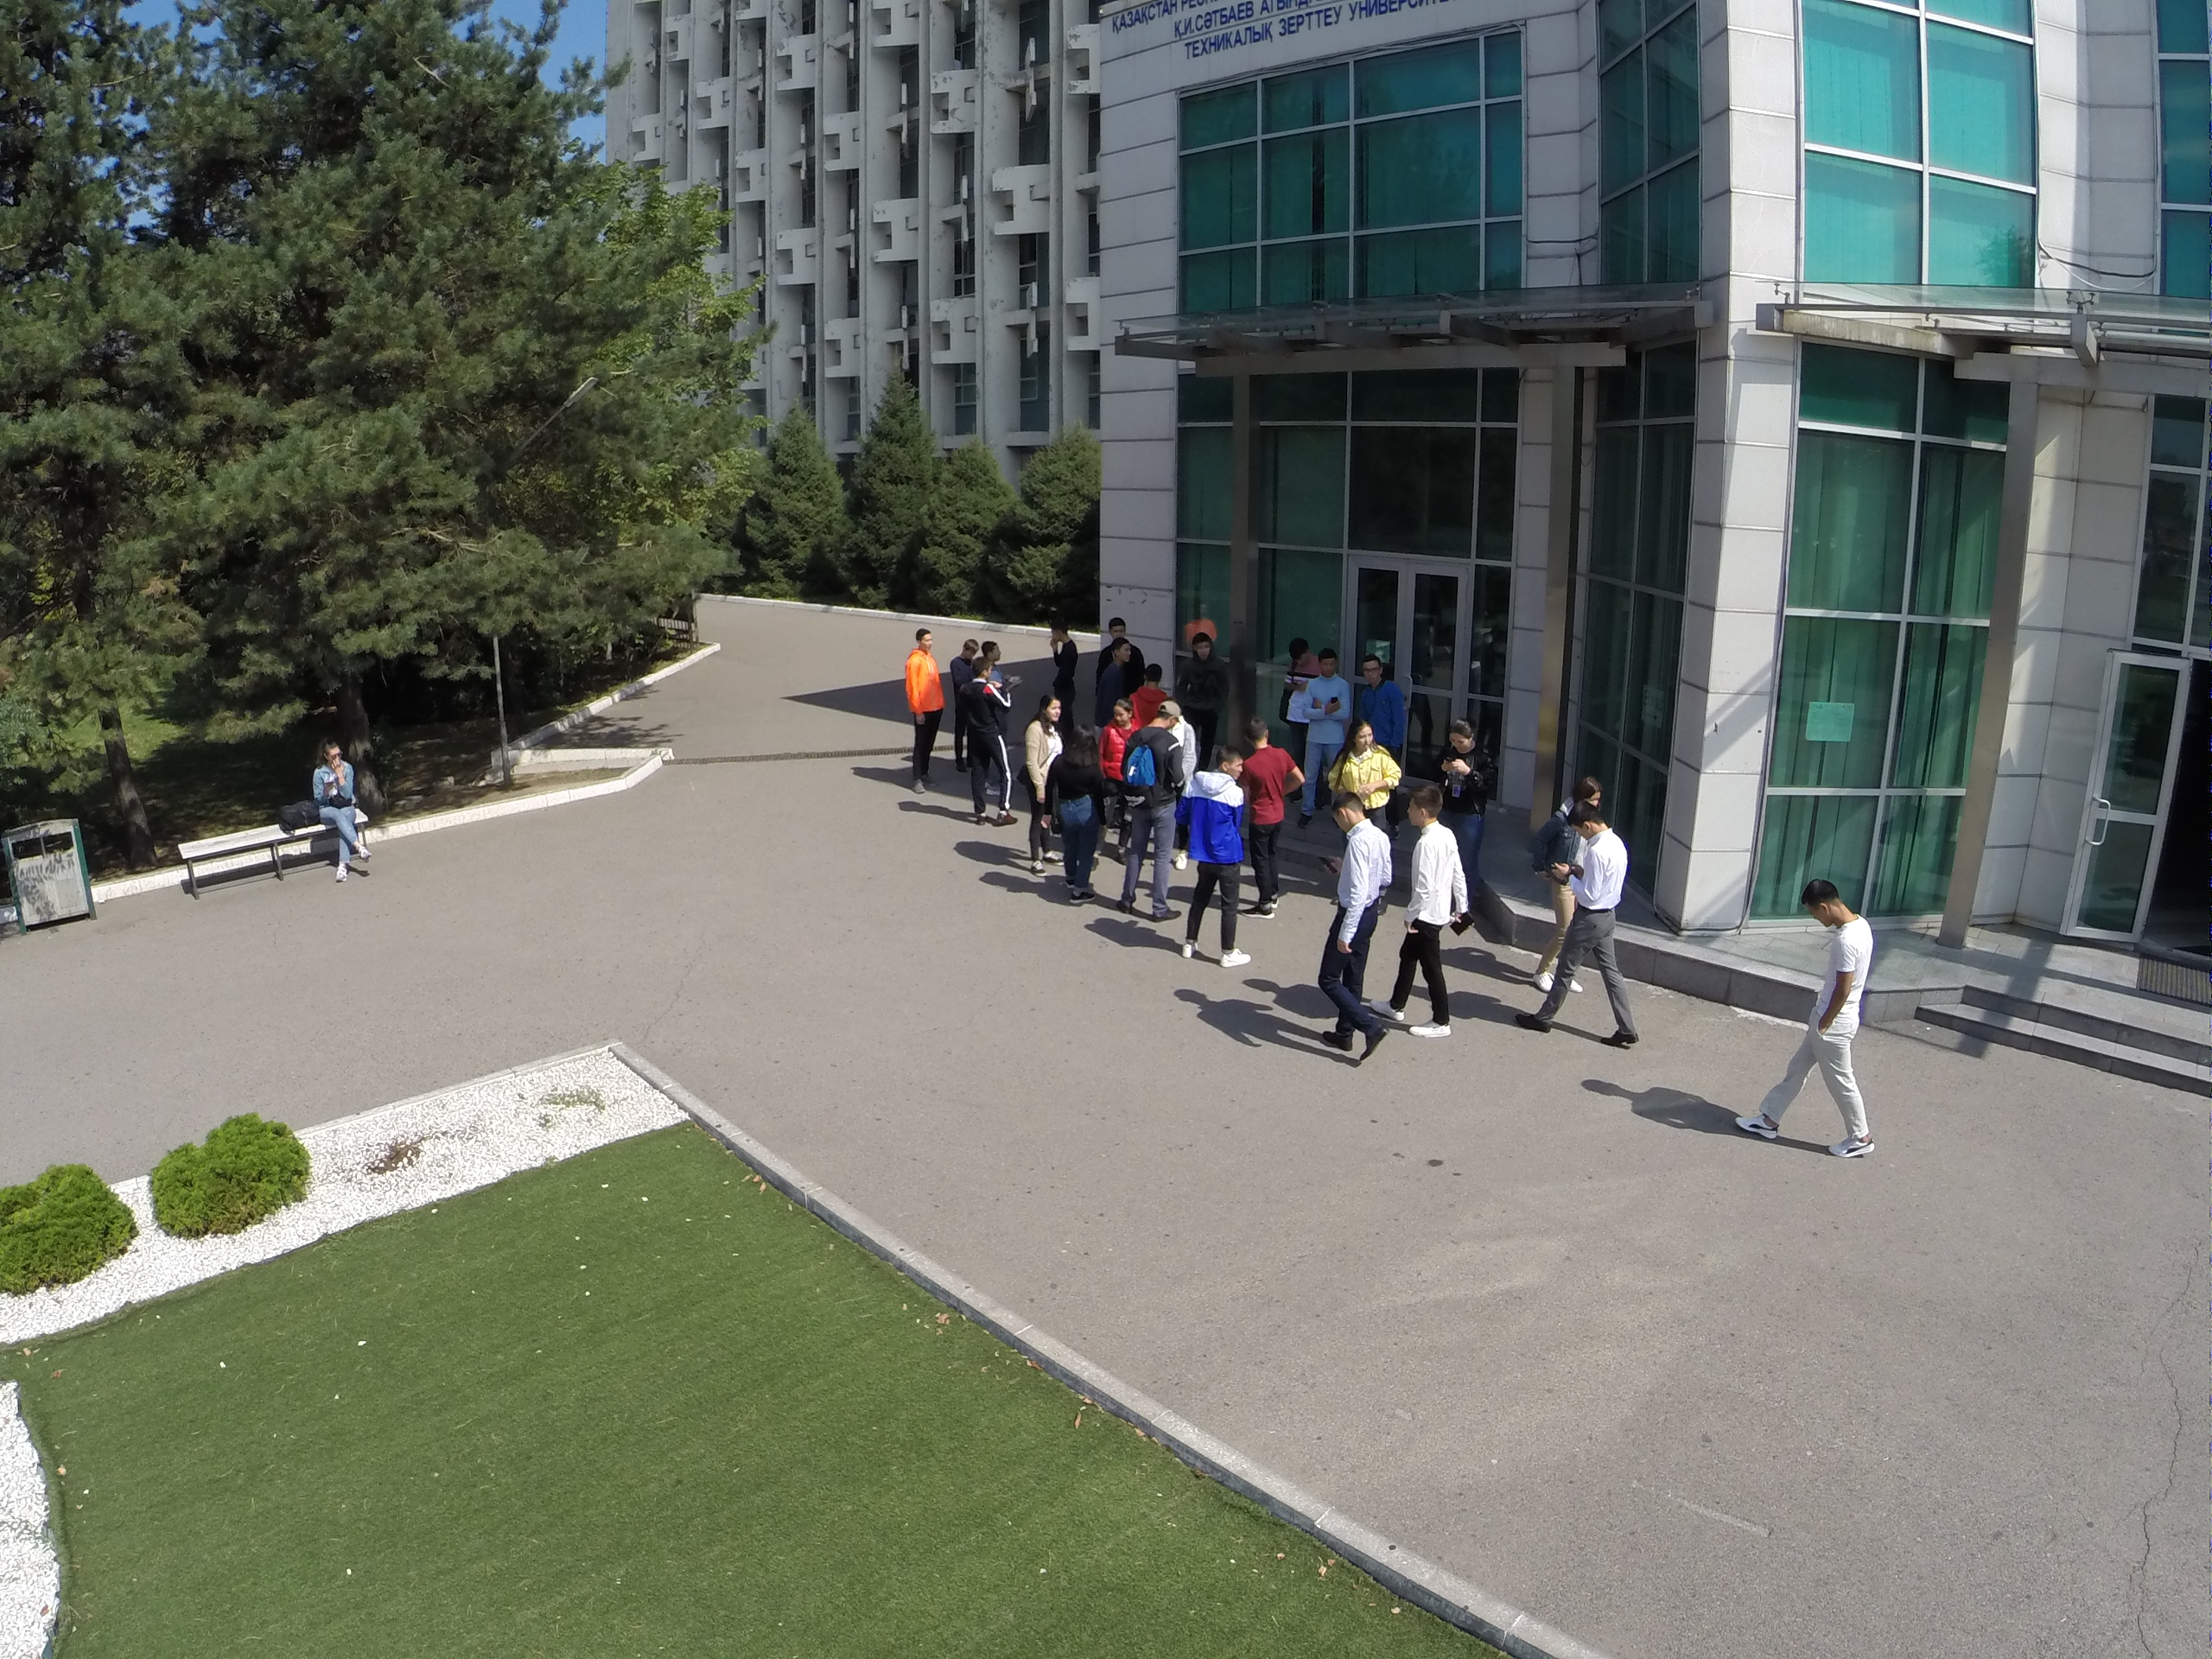person: (1733, 871, 1883, 1169), (1522, 797, 1641, 1046), (1316, 796, 1390, 1068), (1401, 785, 1472, 1047), (1176, 743, 1249, 972), (1132, 703, 1185, 934), (1238, 717, 1296, 919), (310, 737, 372, 886), (963, 658, 1014, 821), (1300, 652, 1348, 820), (1054, 731, 1096, 908), (1026, 693, 1060, 876), (1337, 728, 1398, 824), (903, 624, 936, 806), (1441, 719, 1492, 836), (1181, 628, 1230, 750), (1049, 618, 1077, 701)
